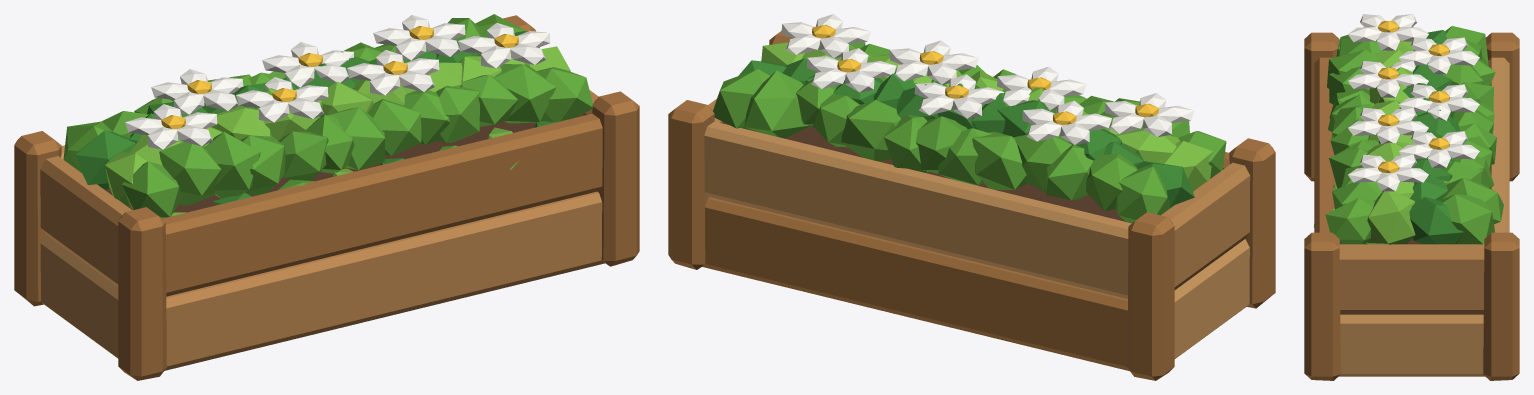
The model's file is rect_planter.glb.
The picture shows the model from 3 angles, left to right: view 1: azimuth 30°, elevation 25°; view 2: azimuth 150°, elevation 25°; view 3: azimuth 270°, elevation 25°; orthographic projection. The views are drawn at different scales.
Parts seen in each view (by area): view 1: rect_planter; view 2: rect_planter; view 3: rect_planter.
Part boxes in pixels (<box>): rect_planter: <box>14,14,639,380</box>; rect_planter: <box>668,14,1275,380</box>; rect_planter: <box>1304,14,1519,380</box>.
Bounding box in the file's own units: 1.3 × 0.5257 × 0.55.
